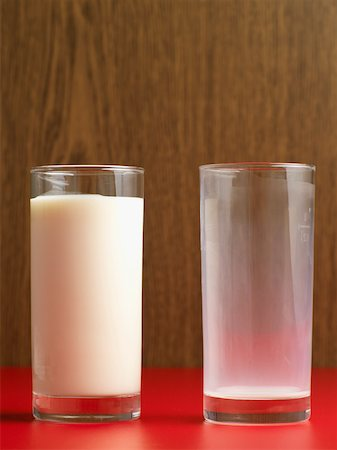glass of milk: (29, 164, 142, 419)
